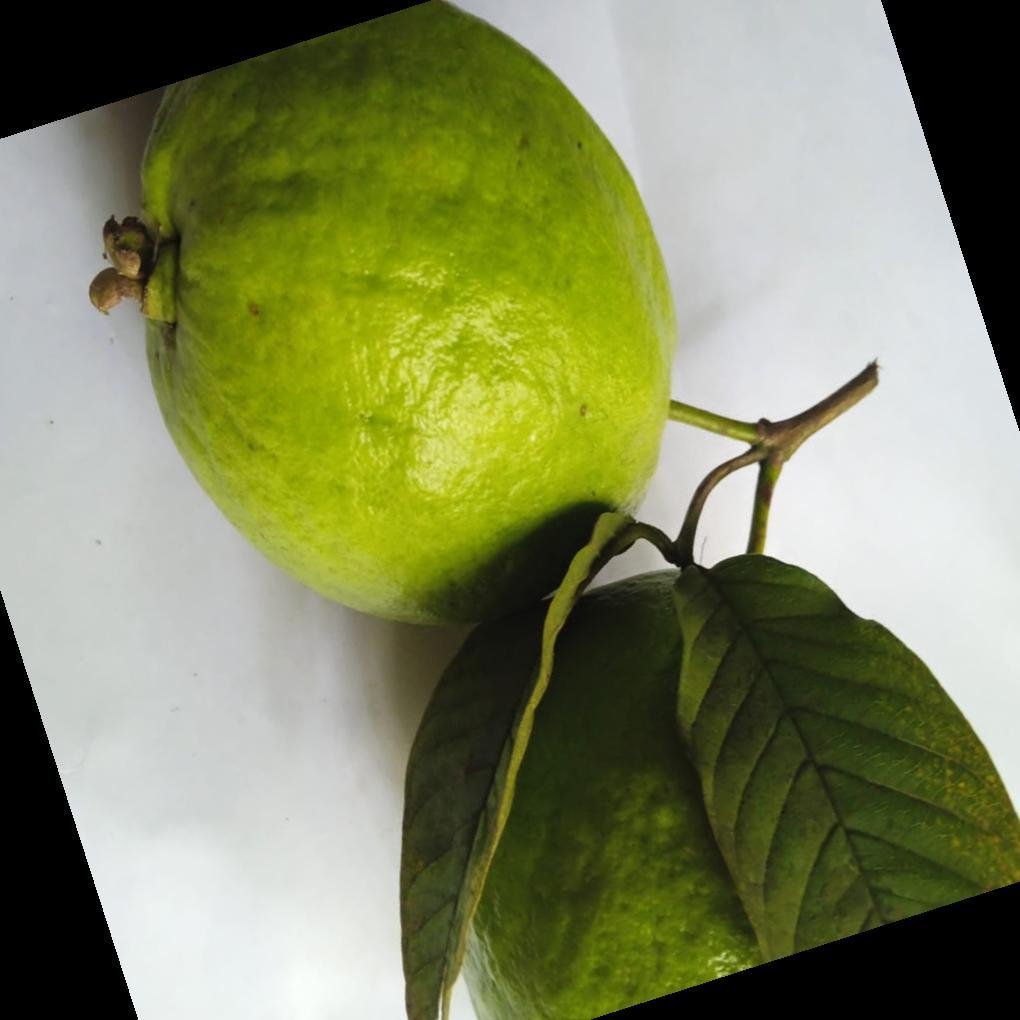FreshGuava: (91, 0, 1020, 1020)
